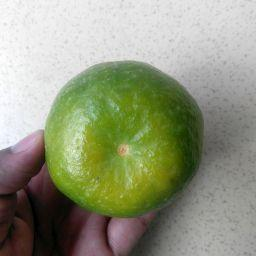Unripe: (42, 61, 204, 213)
